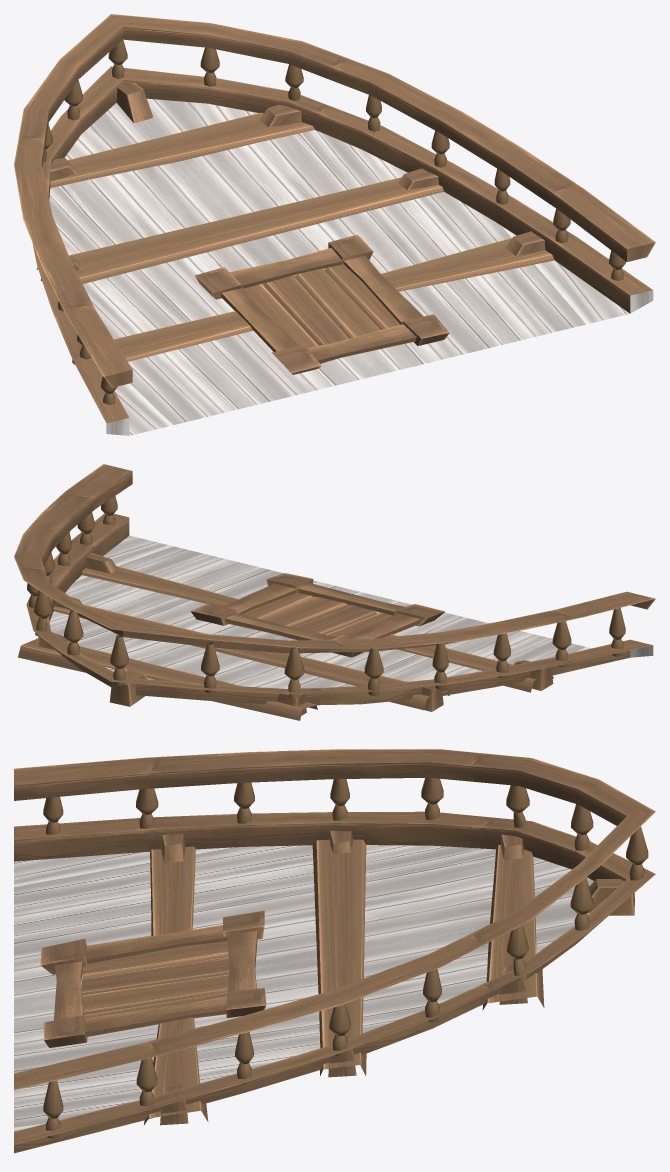
The model's file is GOT_Ship_01.fbx.
3 views of the same model, one above another, from view 1: azimuth 30°, elevation 25°; view 2: azimuth 150°, elevation 25°; view 3: azimuth 270°, elevation 25° (orthographic). The views are drawn at different scales.
Parts seen in each view (by area): view 1: GOT_Ship_01; view 2: GOT_Ship_01; view 3: GOT_Ship_01.
Boxes of the visible parts, x1,y1,x2,y2 form: GOT_Ship_01: (14, 14, 655, 435); GOT_Ship_01: (14, 464, 655, 720); GOT_Ship_01: (14, 749, 655, 1153).
Bounding box in the file's own units: 917 × 283 × 773.
1 material, 1 textured.
